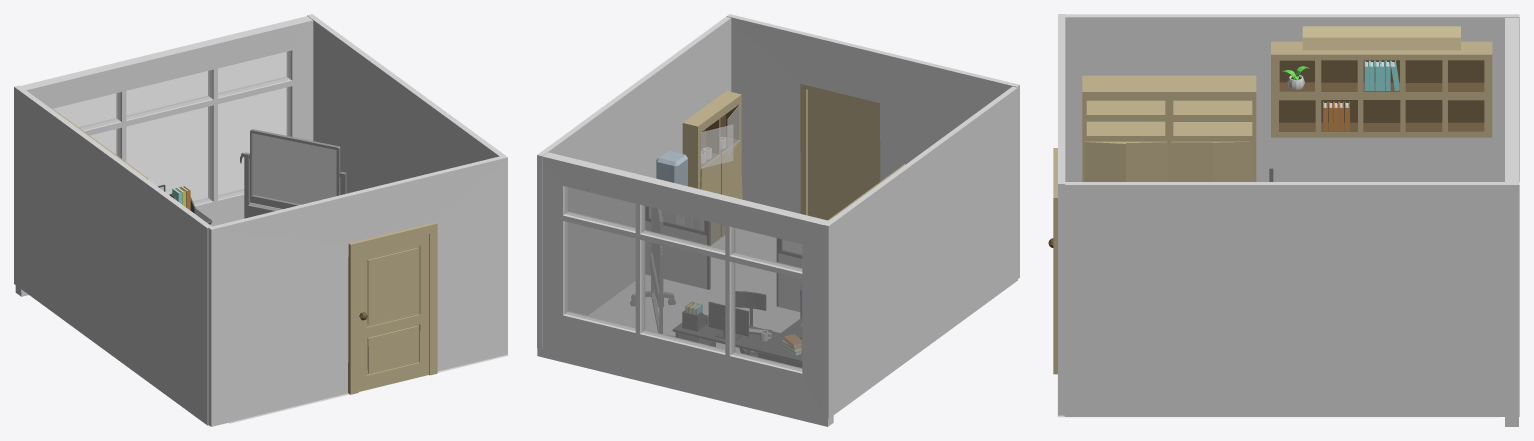
File: ROOM5.fbx
The picture shows the model from 3 angles, left to right: view 1: azimuth 30°, elevation 25°; view 2: azimuth 150°, elevation 25°; view 3: azimuth 270°, elevation 25°; orthographic projection. The views are drawn at different scales.
Parts seen in each view (by area): view 1: pCube217, pCube200, pCube194, pCube193, pCube266, pCube216, pCube141, pCube140, floor; view 2: pCube200, pCube193, pCube194, pCube217, pCube266, pCube216, floor, pCube271, pCube270, pCube148, pCube268, pCube272 (+4 smaller); view 3: pCube266, pCube200, pCube202, pCube201, pCube193, pCube217, pCube216, floor.
Part boxes in pixels (bbox=[...]): pCube217: bbox=[208, 155, 507, 426]; pCube200: bbox=[14, 85, 211, 425]; pCube194: bbox=[52, 51, 290, 204]; pCube193: bbox=[15, 16, 313, 296]; pCube266: bbox=[307, 14, 504, 194]; pCube216: bbox=[348, 222, 437, 394]; pCube141: bbox=[250, 129, 340, 208]; pCube140: bbox=[240, 152, 346, 218]; floor: bbox=[228, 354, 508, 423]; pCube200: bbox=[823, 86, 1017, 418]; pCube193: bbox=[537, 152, 833, 426]; pCube194: bbox=[565, 186, 802, 371]; pCube217: bbox=[726, 14, 1019, 278]; pCube266: bbox=[537, 16, 731, 348]; pCube216: bbox=[800, 84, 880, 220]; floor: bbox=[588, 228, 799, 352]; pCube271: bbox=[682, 91, 742, 244]; pCube270: bbox=[645, 206, 710, 289]; pCube148: bbox=[673, 315, 801, 367]; pCube268: bbox=[777, 238, 801, 311]; pCube272: bbox=[700, 124, 733, 168]; pCube266: bbox=[1064, 182, 1519, 416]; pCube200: bbox=[1065, 14, 1519, 181]; pCube202: bbox=[1271, 26, 1492, 137]; pCube201: bbox=[1082, 75, 1256, 181]; pCube193: bbox=[1505, 18, 1518, 426]; pCube217: bbox=[1058, 14, 1065, 415]; pCube216: bbox=[1053, 148, 1057, 374]; floor: bbox=[1057, 374, 1499, 417].
Size of the model in its own units: 17.44 by 11.53 by 20.31.
